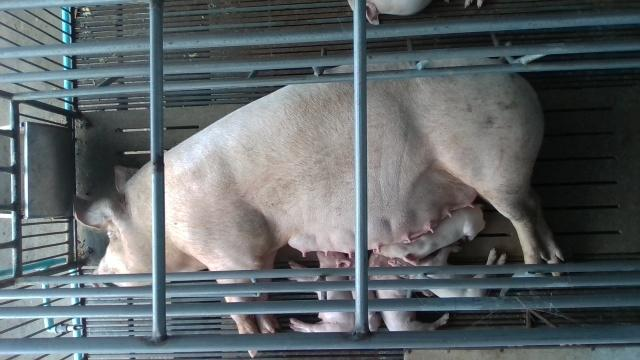piglet: (368, 248, 450, 330), (374, 202, 487, 260), (389, 243, 508, 297), (288, 251, 357, 332), (345, 1, 444, 24)
sow-sleep-lactate: (72, 55, 564, 358)
